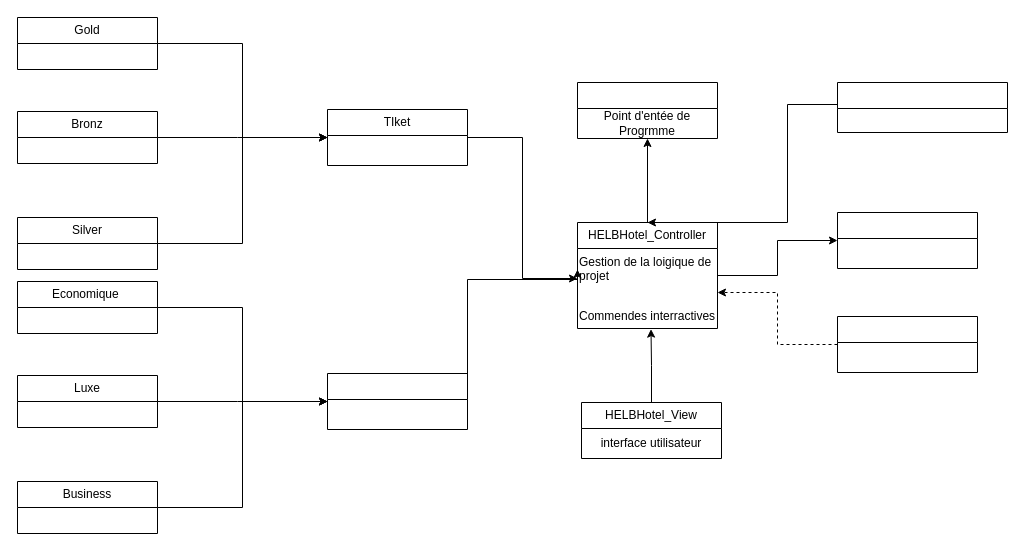
This 1025x551 diagram has some shape labels left out. Each missing label, with the box of its shape:
Factory: (836, 212, 978, 268)
Main: (576, 82, 718, 138)
Observer (interface): (836, 316, 978, 372)
Reservation_Request_Parser: (836, 82, 1008, 132)
Romm: (326, 372, 468, 430)
